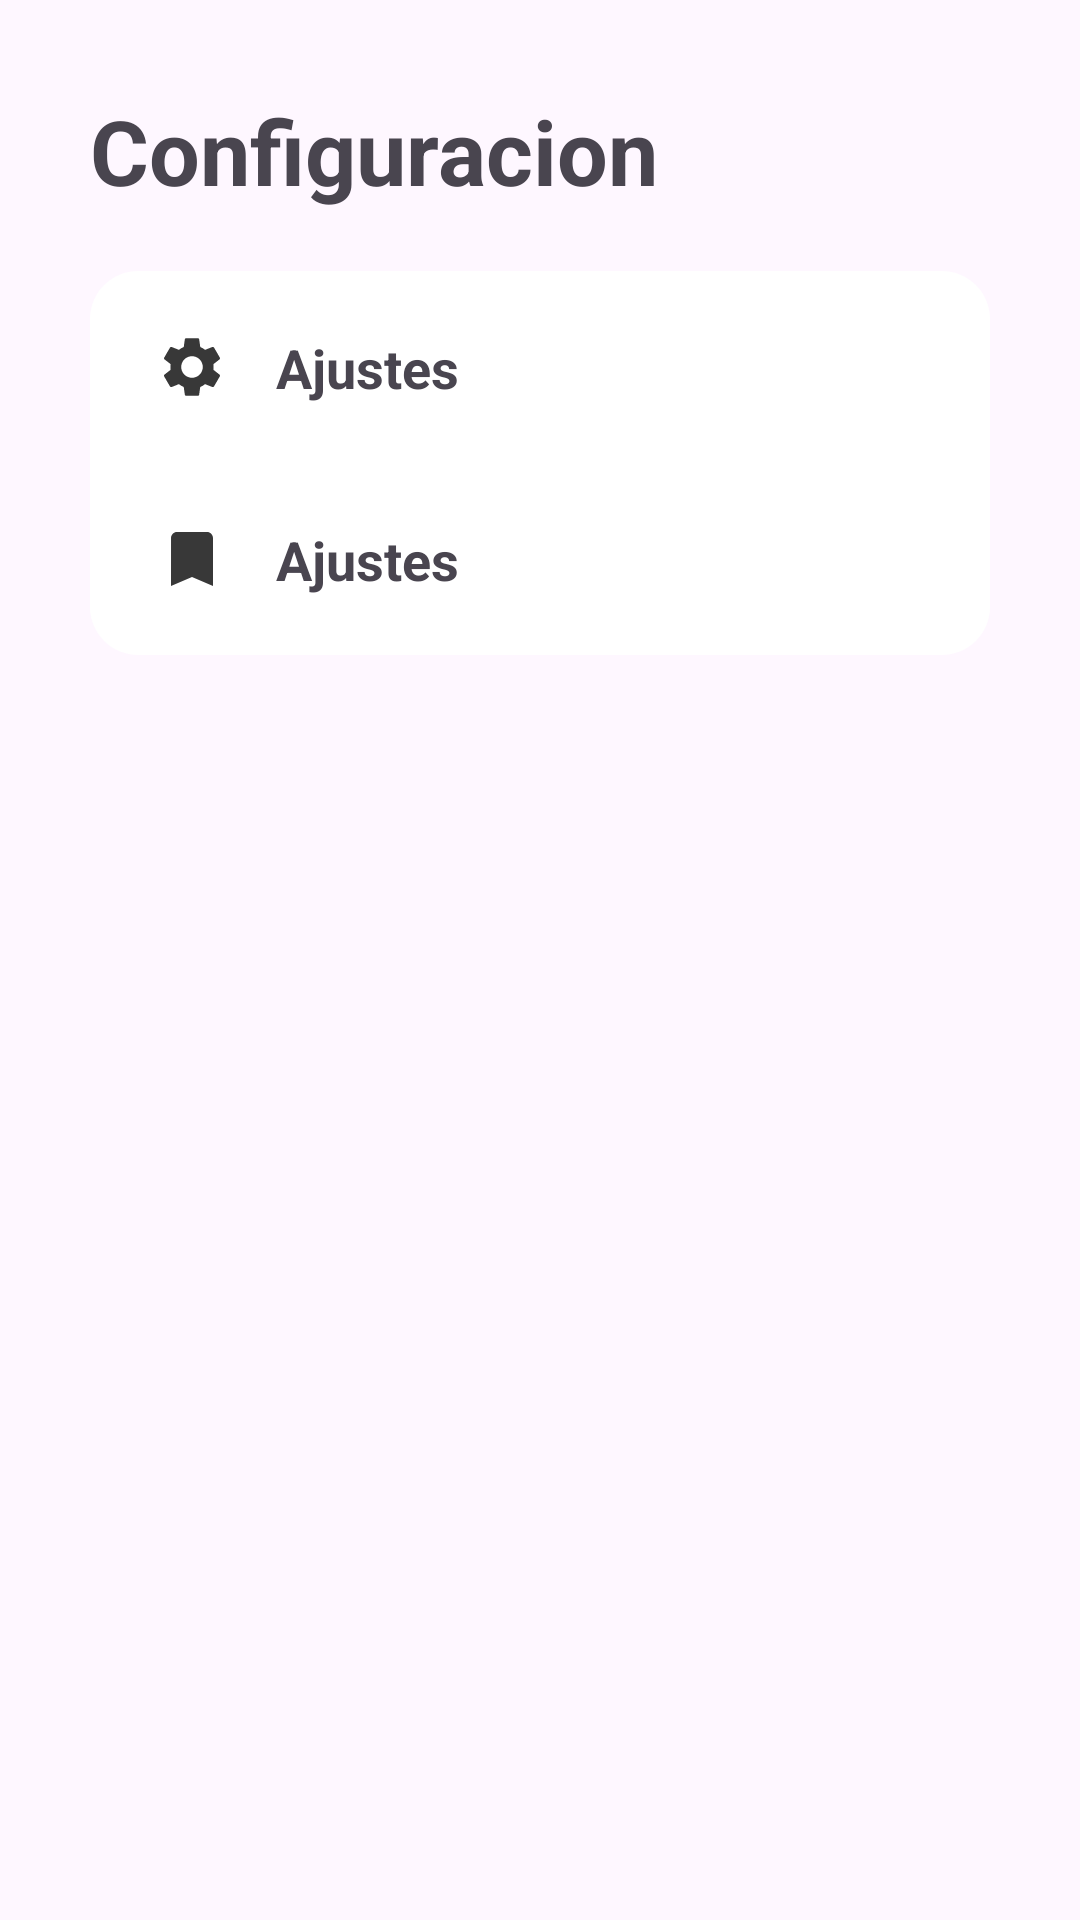

Icons on this 1080px x 1920px Android screen, each with its box as (x1, y1, x2, y2):
settings: (164, 338, 220, 396)
